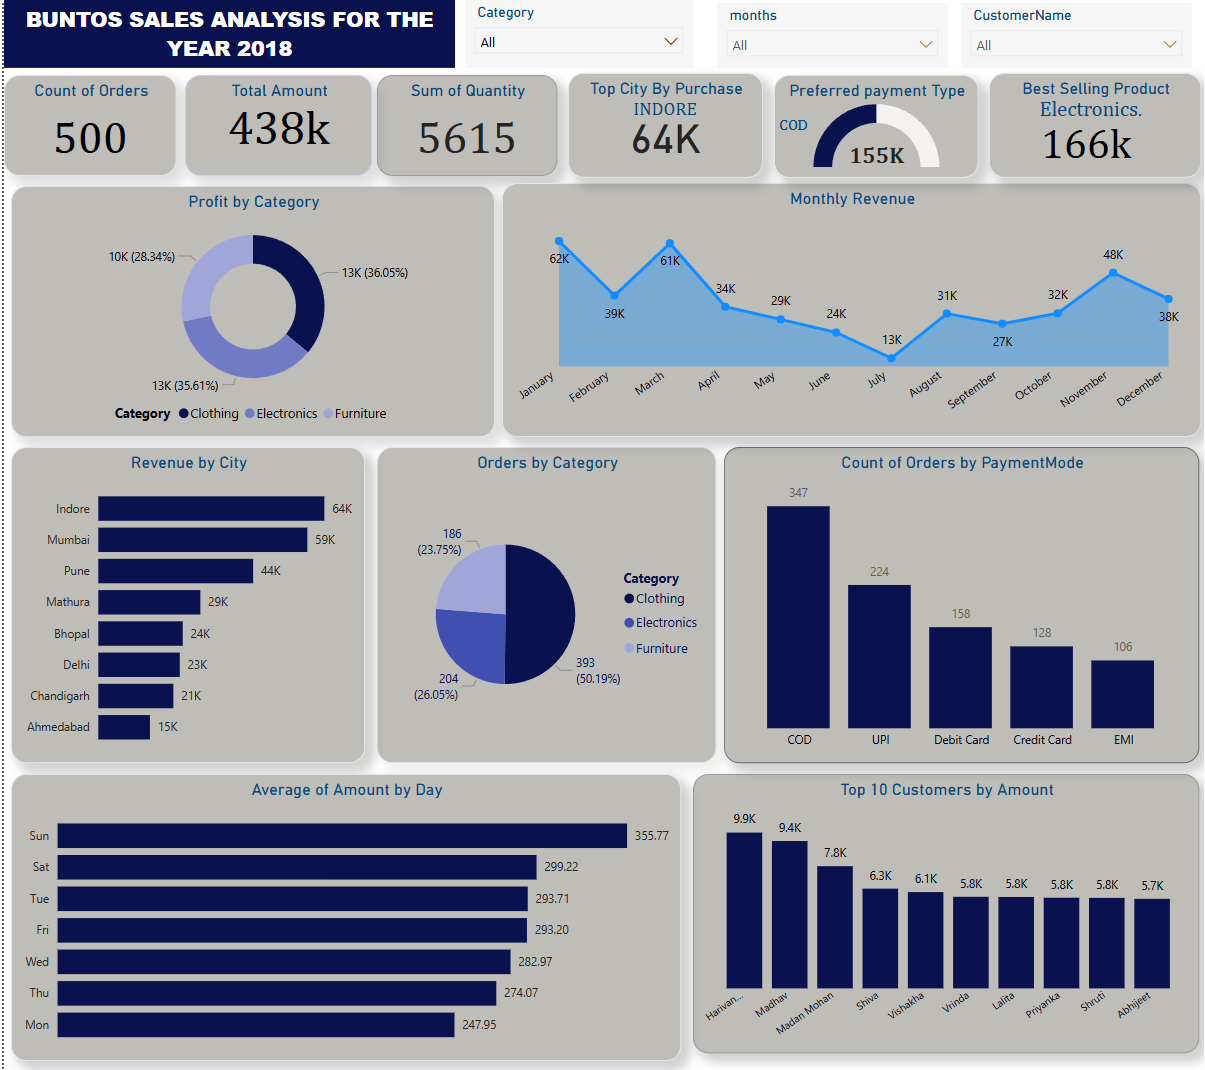

This screenshot's page, from the dashboard's own definition file:
{"tool":"powerbi","page":{"name":"Main Dashboard","canvas":[1700,1500],"ordinal":0},"visuals":[{"type":"clusteredColumnChart","title":"Top 10 Customers by Amount","fields":{"Y":["Details.Amount"],"Category":["Orders.CustomerName"]},"box":[710,798,522,288],"z":0},{"type":"columnChart","fields":{"Category":["Details.PaymentMode"],"Y":["Orders"]},"box":[742,461,490,326],"z":1000},{"type":"textbox","box":[0,0,465,70],"z":2000},{"type":"card","title":"Count of Orders","fields":{"Values":["Orders"]},"box":[0,77,178,104],"z":3000},{"type":"donutChart","title":"Profit by Category","fields":{"Category":["Details.Category"],"Y":["Details.Profit"]},"box":[7,192,499,259],"z":4000},{"type":"card","title":"Sum of Quantity","fields":{"Values":["Details.Quantity"]},"box":[385,77,186,104],"z":5000},{"type":"pieChart","title":"Orders by Category","fields":{"Category":["Details.Category"],"Y":["Orders"]},"box":[385,461,350,326],"z":6000},{"type":"areaChart","title":"Monthly Revenue","fields":{"Category":["Orders.Order Date.Variation.Date Hierarchy.Month"],"Y":["Details.Amount"]},"box":[513,189,721,262],"z":7000},{"type":"clusteredBarChart","title":"Revenue by City","fields":{"Category":["Orders.City"],"Y":["Details.Amount"]},"box":[7,461,365,326],"z":8000},{"type":"card","title":"Top City By Purchase","fields":{"Values":["Details.Amount"]},"box":[581,75,201,108],"z":9000},{"type":"textbox","title":"Total Amount","box":[187,77,193,104],"z":10000},{"type":"textbox","box":[603,98,157,34],"z":11000},{"type":"clusteredBarChart","title":"Average of Amount by Day","fields":{"Category":["Orders.Day_name"],"Y":["Details.Amount"]},"box":[7,798,691,296],"z":12000},{"type":"gauge","title":"Preferred payment Type","fields":{"Y":["Details.Amount"]},"box":[794,77,211,106],"z":13000},{"type":"textbox","box":[794,115,60,42],"z":14000},{"type":"shape","title":"Best Selling Product","box":[1015,75,219,108],"z":15000},{"type":"textbox","box":[1015,96,210,87],"z":16000},{"type":"slicer","fields":{"Values":["Details.Category"]},"box":[475,0,235,70],"z":17000},{"type":"slicer","fields":{"Values":["Orders.months"]},"box":[735,3,238,67],"z":18000},{"type":"slicer","fields":{"Values":["Orders.CustomerName"]},"box":[987,3,238,67],"z":19000}]}

Visuals, with their boxes in screenshot pixels (x1, y1, x2, y2), scaled from the page's 1700x1500 canvas onto the 1205x1070 screenshot:
"Top 10 Customers by Amount" clusteredColumnChart: [503, 569, 873, 775]
columnChart - Details.PaymentMode x Orders: [526, 329, 873, 561]
textbox: [0, 0, 330, 50]
"Count of Orders" card: [0, 55, 126, 129]
"Profit by Category" donutChart: [5, 137, 359, 322]
"Sum of Quantity" card: [273, 55, 405, 129]
"Orders by Category" pieChart: [273, 329, 521, 561]
"Monthly Revenue" areaChart: [364, 135, 875, 322]
"Revenue by City" clusteredBarChart: [5, 329, 264, 561]
"Top City By Purchase" card: [412, 54, 554, 131]
"Total Amount" textbox: [133, 55, 269, 129]
textbox: [427, 70, 539, 94]
"Average of Amount by Day" clusteredBarChart: [5, 569, 495, 780]
"Preferred payment Type" gauge: [563, 55, 712, 131]
textbox: [563, 82, 605, 112]
"Best Selling Product" shape: [719, 54, 875, 131]
textbox: [719, 68, 868, 131]
slicer - Details.Category: [337, 0, 503, 50]
slicer - Orders.months: [521, 2, 690, 50]
slicer - Orders.CustomerName: [700, 2, 868, 50]
